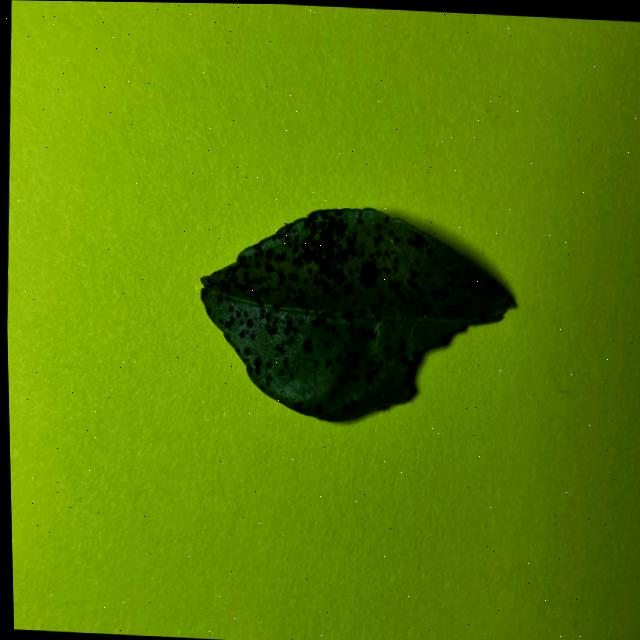sooty_mold: (201, 207, 486, 420)
